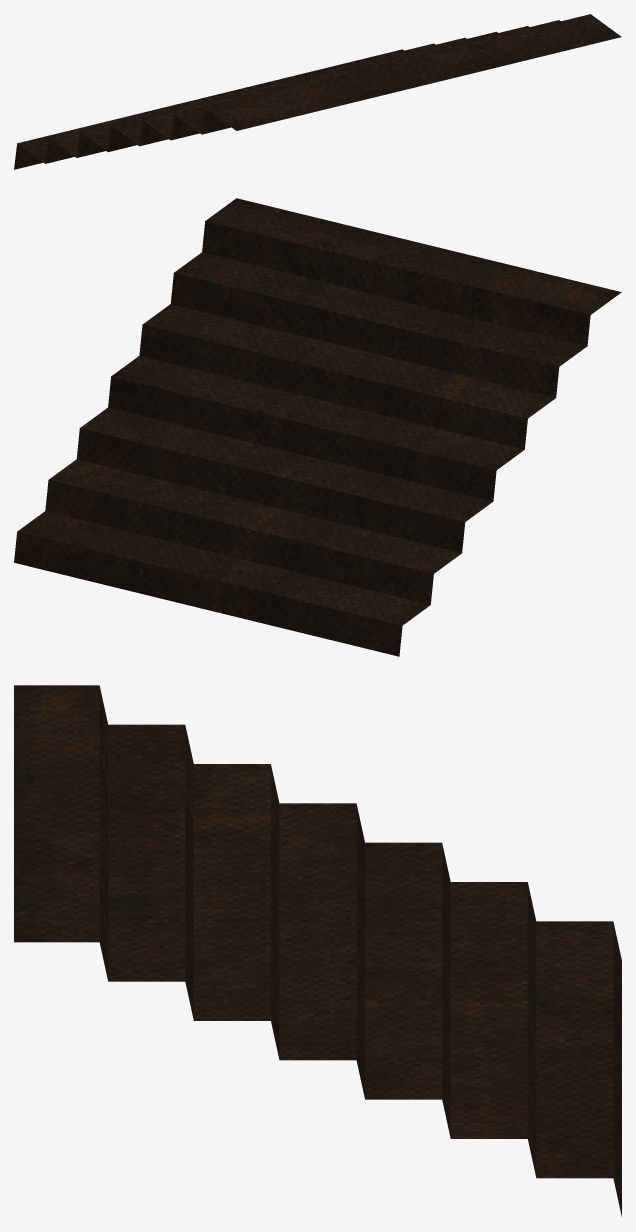
File: stairs_2.glb
3 views of the same model, one above another, from view 1: azimuth 30°, elevation 25°; view 2: azimuth 150°, elevation 25°; view 3: azimuth 270°, elevation 25° (orthographic). The views are drawn at different scales.
Visible parts, largest first — view 1: stairs_2; view 2: stairs_2; view 3: stairs_2.
Part boxes in pixels (<box>): stairs_2: <box>14,14,621,169</box>; stairs_2: <box>14,198,621,656</box>; stairs_2: <box>14,685,621,1216</box>.
Bounding box in the file's own units: 2 × 1 × 2.
1 material, 1 textured.
